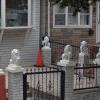Statue: (2, 44, 28, 83)
